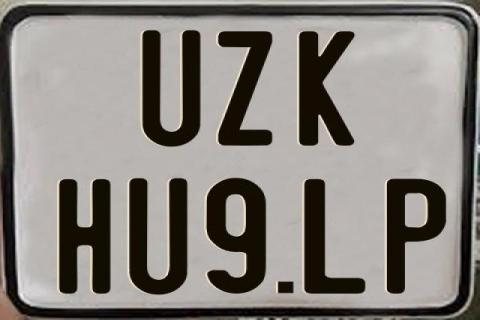0: (203, 176, 264, 296)
H: (59, 179, 114, 295)
K: (298, 30, 354, 148)
L: (303, 178, 369, 294)
P: (386, 176, 446, 291)
U: (126, 177, 190, 297), (140, 29, 204, 145)
Z: (217, 31, 273, 145)
